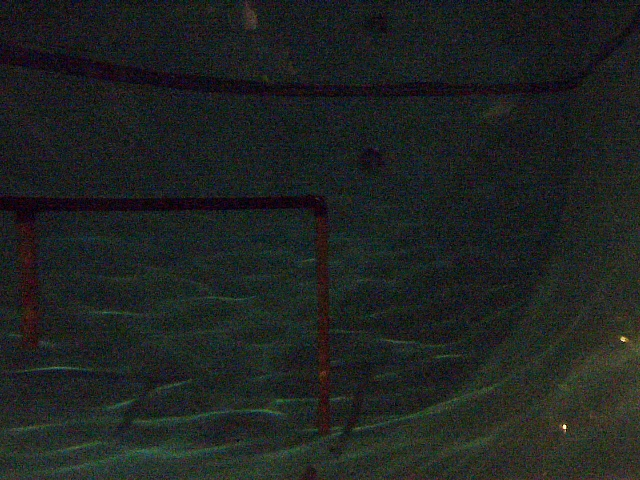Gate: (313, 212, 337, 433), (15, 210, 43, 346)
